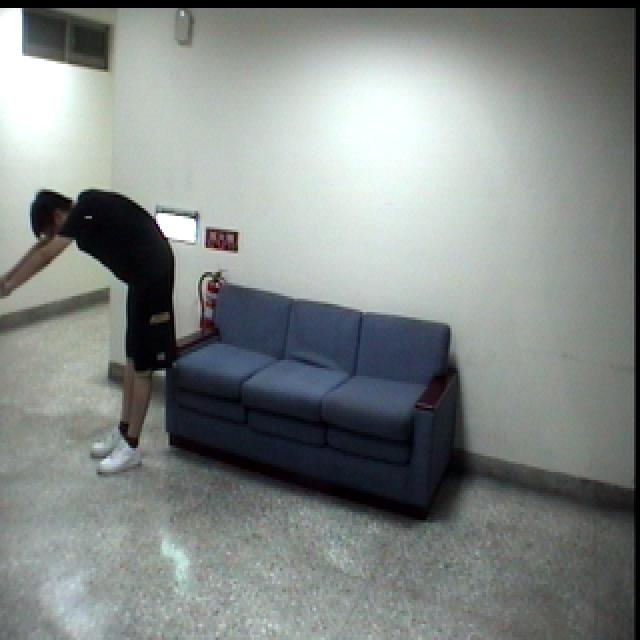bend: (0, 161, 179, 481)
